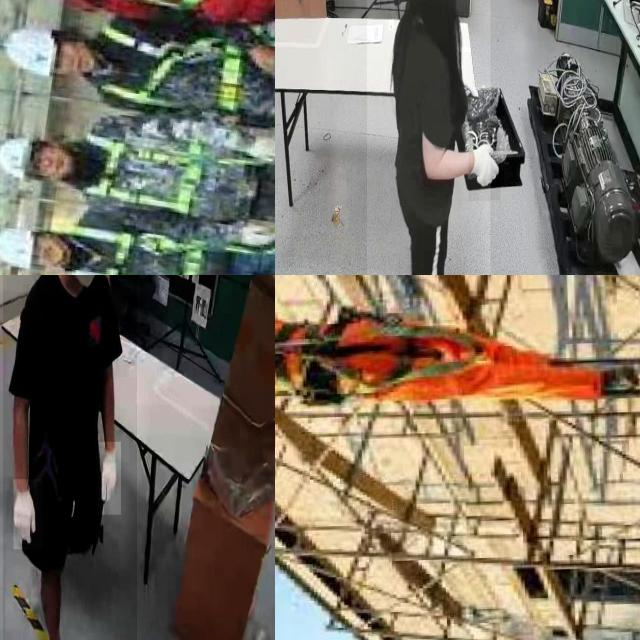Harness: (85, 15, 275, 136), (66, 123, 275, 230), (275, 312, 482, 404), (50, 217, 274, 275)
face_mask: (65, 275, 104, 294)
hand_glove: (13, 479, 43, 550), (469, 136, 501, 201), (98, 442, 122, 516)
person: (2, 275, 137, 640), (367, 0, 491, 275)
